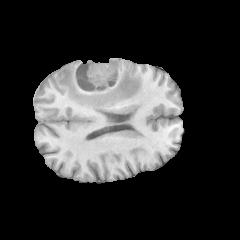glioma: (53, 58, 141, 110)
